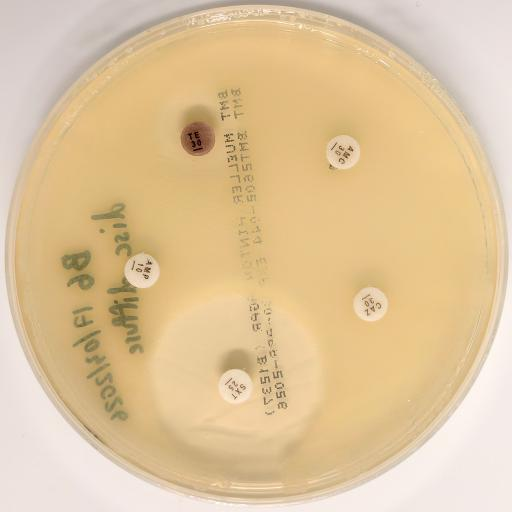disc: (217, 368, 253, 404), (124, 252, 160, 288), (353, 286, 388, 322), (181, 120, 215, 156), (326, 134, 360, 170)
